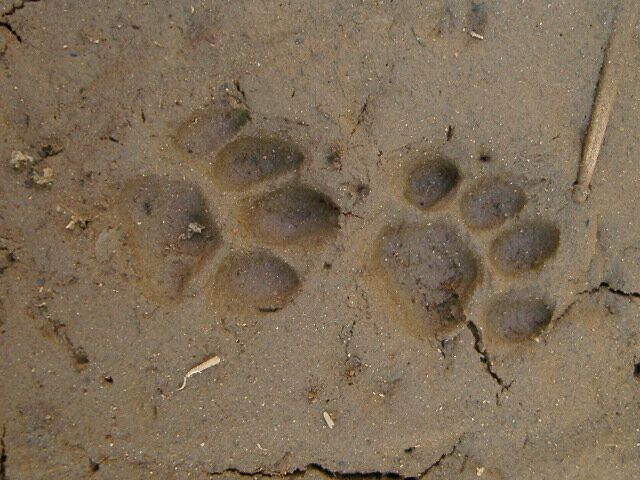cat: (108, 101, 347, 325), (373, 154, 558, 345)
